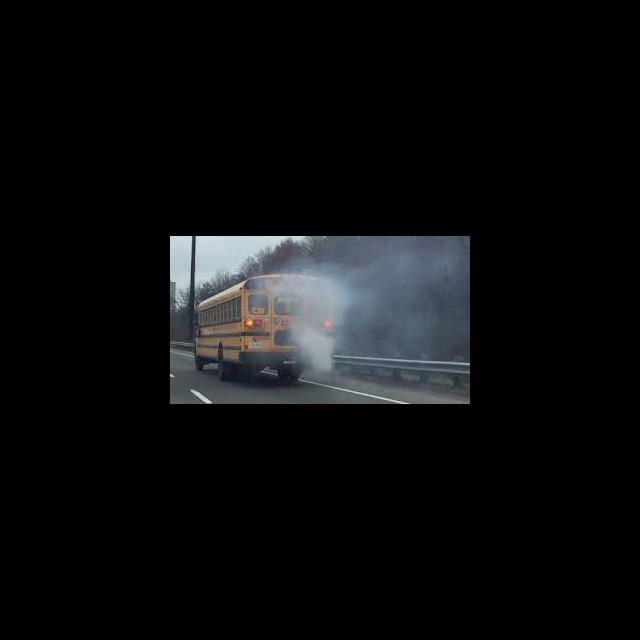Smoke: (284, 260, 350, 372)
